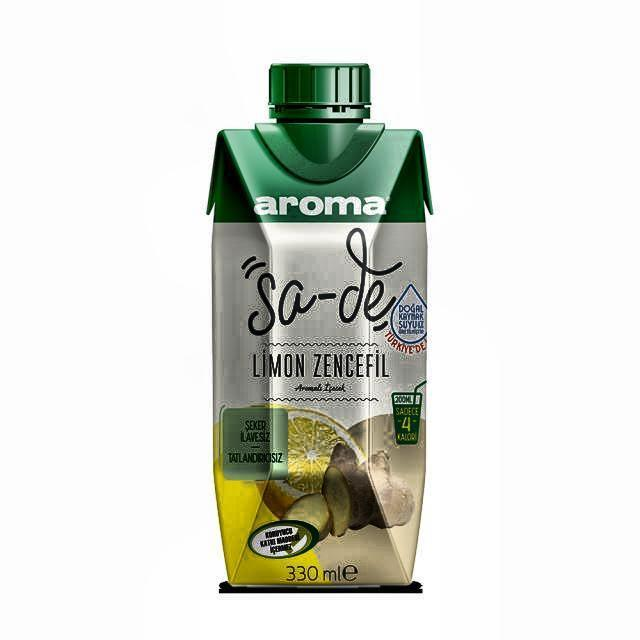cardboard: (208, 62, 433, 595)
